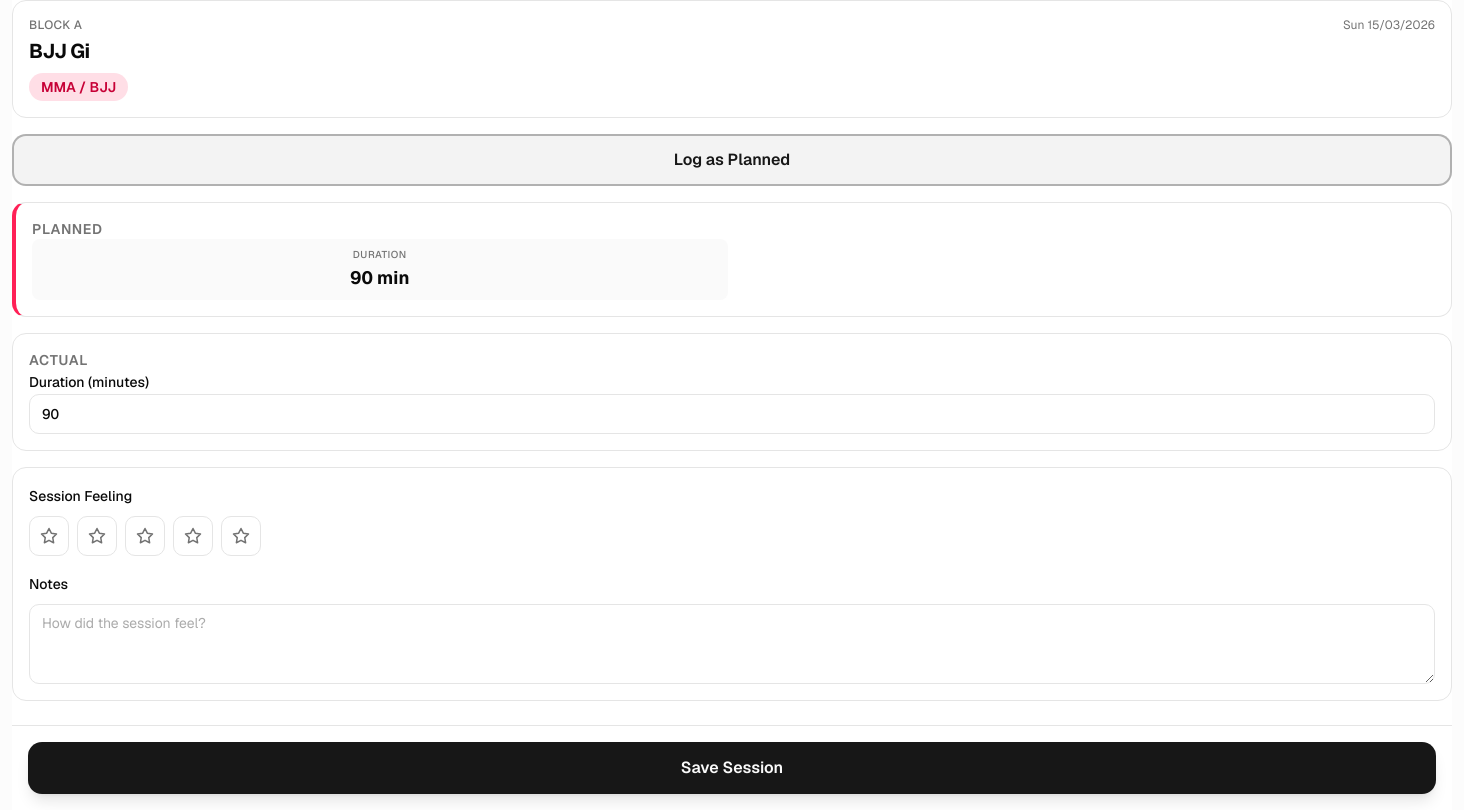
Test: T135 — numeric input migration: mma-logging-form › duration input rejects letters and decimals
Clear the field with test id "actual-duration": [732, 414] box [29, 394, 1435, 434]
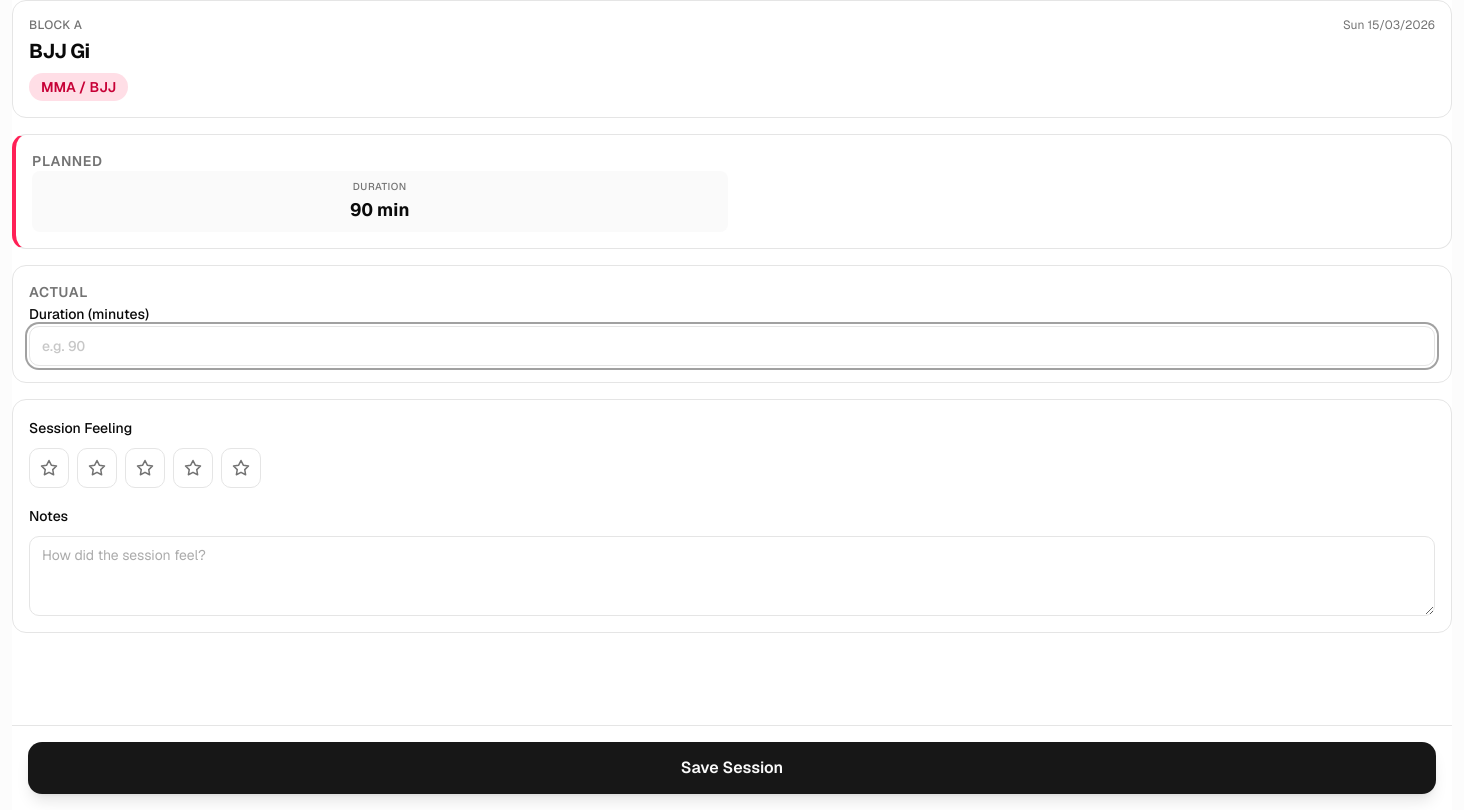
In the field with test id "actual-duration": [732, 346] box [29, 326, 1435, 366], type "9a0.5"
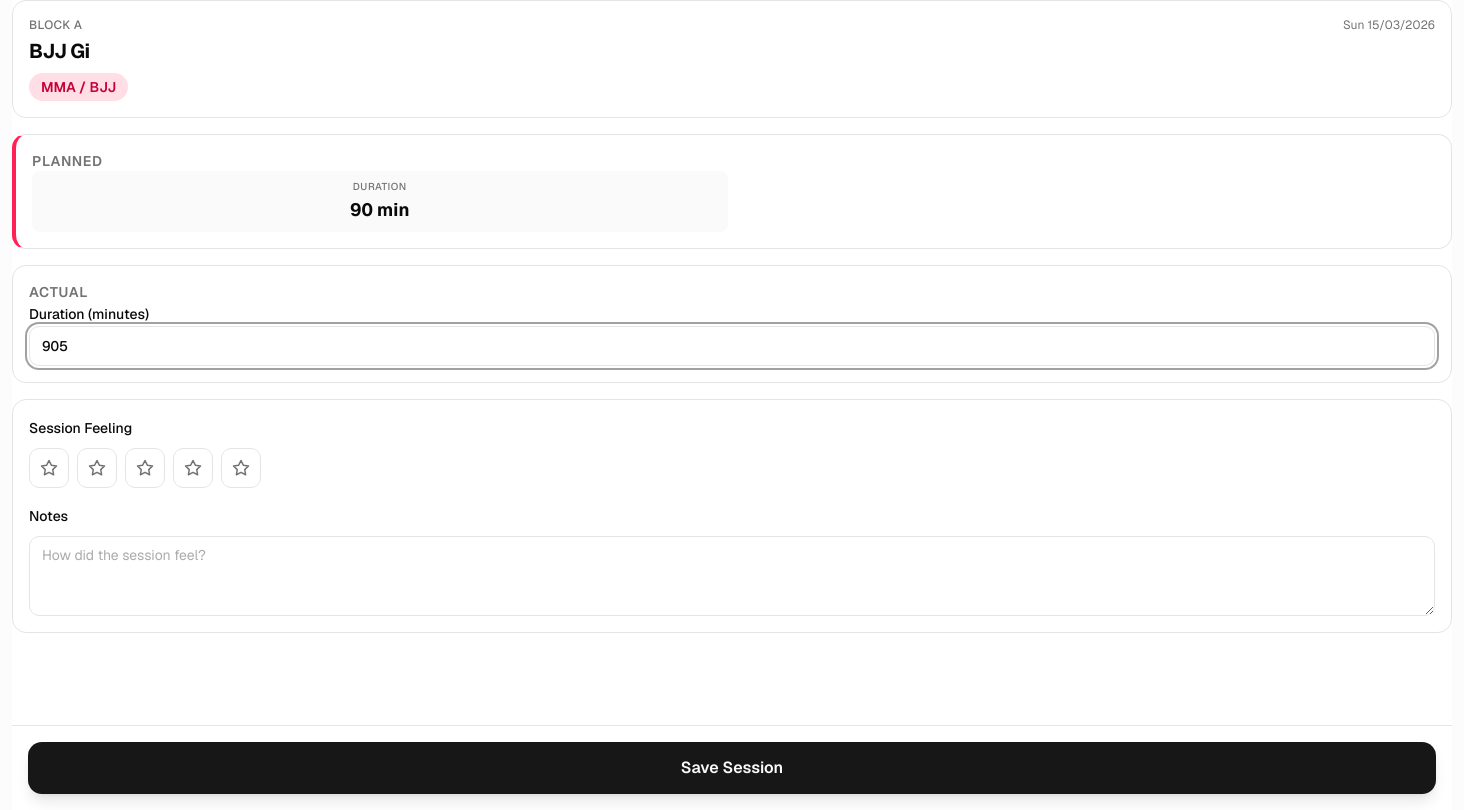
Result: the field with test id "actual-duration" holds "905" at [29, 326, 1435, 366]
